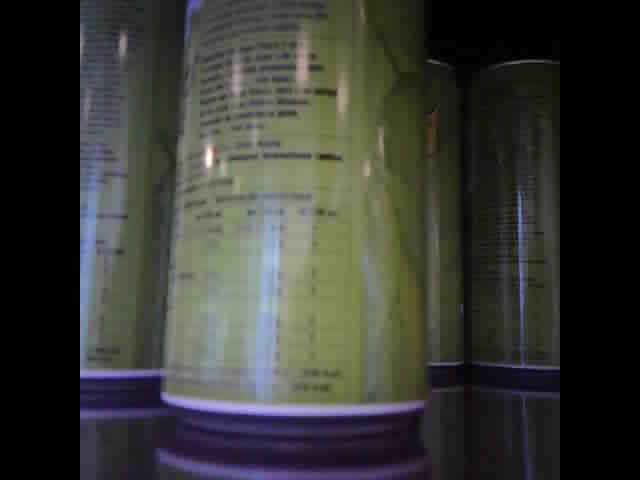schweppes: (158, 1, 424, 418), (81, 3, 180, 386), (476, 52, 563, 373), (423, 50, 467, 372)
